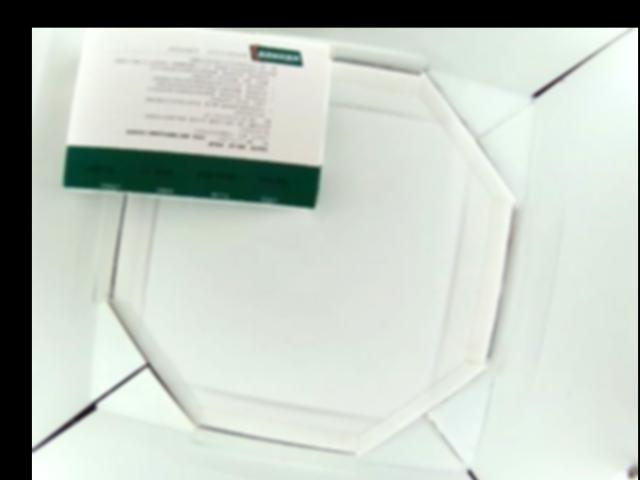Medicine: (61, 28, 333, 211)
